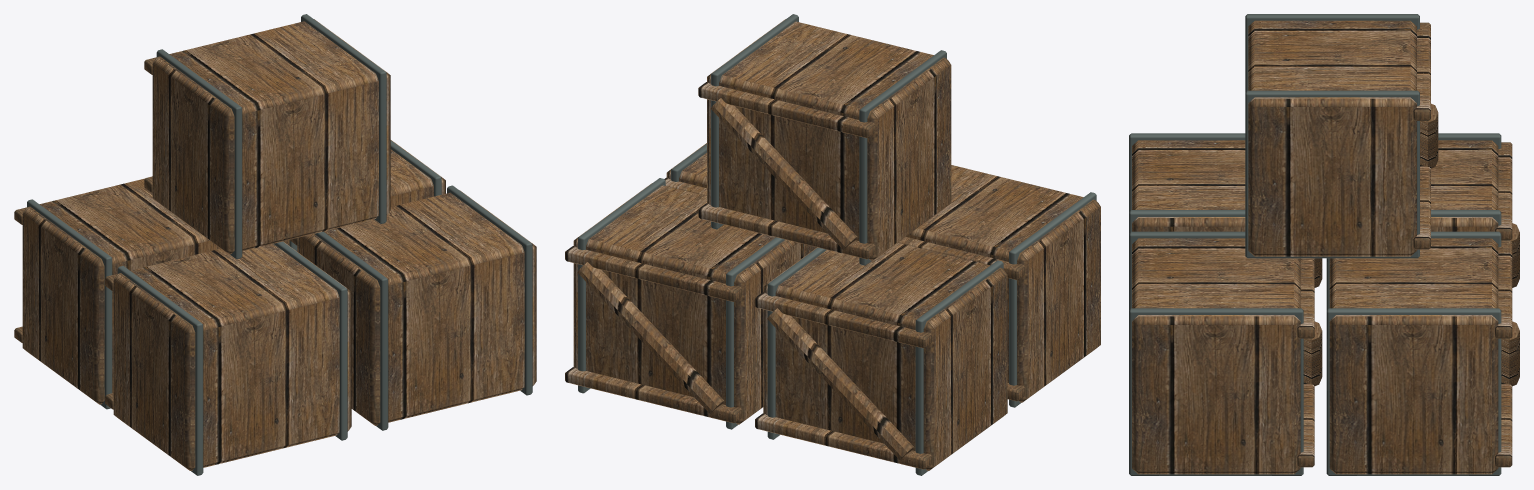
Rendered from prop_cargo_stack.glb.
The picture shows the model from 3 angles, left to right: view 1: azimuth 30°, elevation 25°; view 2: azimuth 150°, elevation 25°; view 3: azimuth 270°, elevation 25°; orthographic projection. The views are drawn at different scales.
Parts seen in each view (by area): view 1: cargo_crate, iron_binding, crate_rim; view 2: cargo_crate, crate_rim, iron_binding; view 3: cargo_crate, iron_binding, crate_rim.
Boxes of the visible parts, box(x1,y1,x2,y2) form: cargo_crate: box(22, 19, 536, 470); iron_binding: box(27, 14, 532, 475); crate_rim: box(14, 57, 298, 409); cargo_crate: box(573, 19, 1100, 470); crate_rim: box(565, 82, 1024, 469); iron_binding: box(578, 14, 1096, 475); cargo_crate: box(1132, 20, 1498, 474); iron_binding: box(1129, 14, 1501, 475); crate_rim: box(1297, 22, 1519, 467).
Bounding box in the file's own units: 3.8 × 3.17 × 3.36.
Materials: 3 (2 with a texture image).
